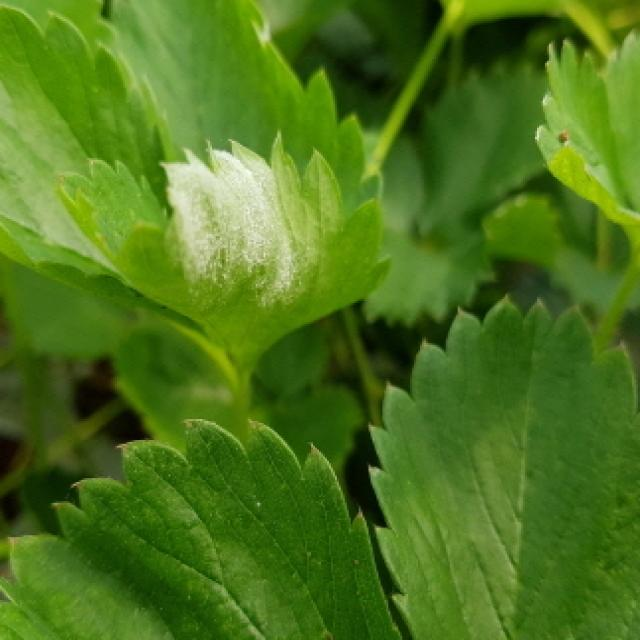Powdery Mildew Leaf: (55, 127, 395, 381)
